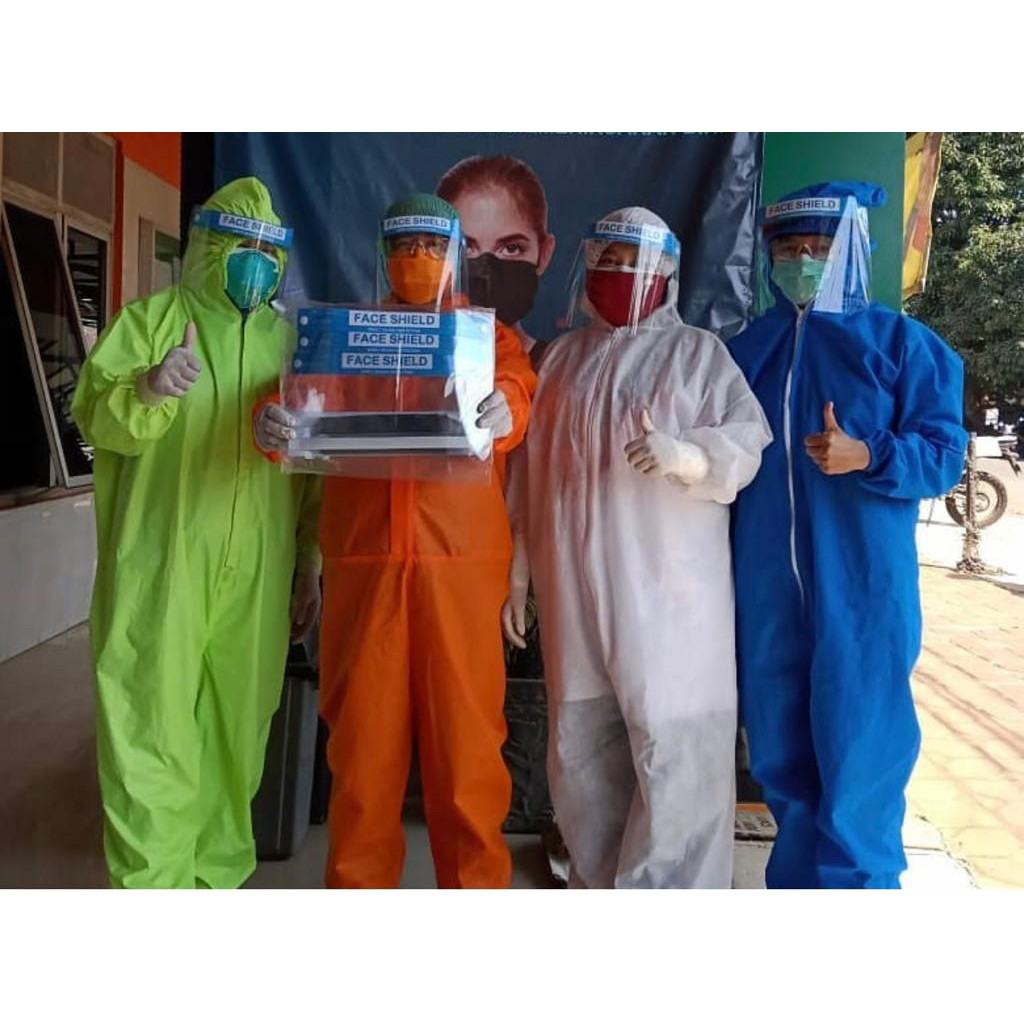Coverall: (740, 186, 959, 921), (86, 171, 307, 888), (531, 206, 744, 905), (327, 199, 513, 893)
Gloves: (624, 410, 724, 482), (122, 326, 211, 400)
with_mask: (583, 244, 675, 327), (379, 236, 463, 310), (770, 238, 843, 307), (226, 237, 283, 311)
